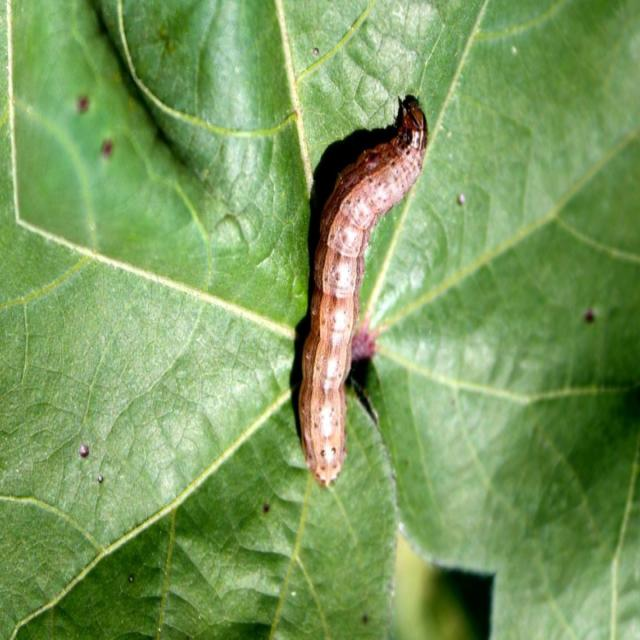Armyworm: (247, 36, 453, 502)
